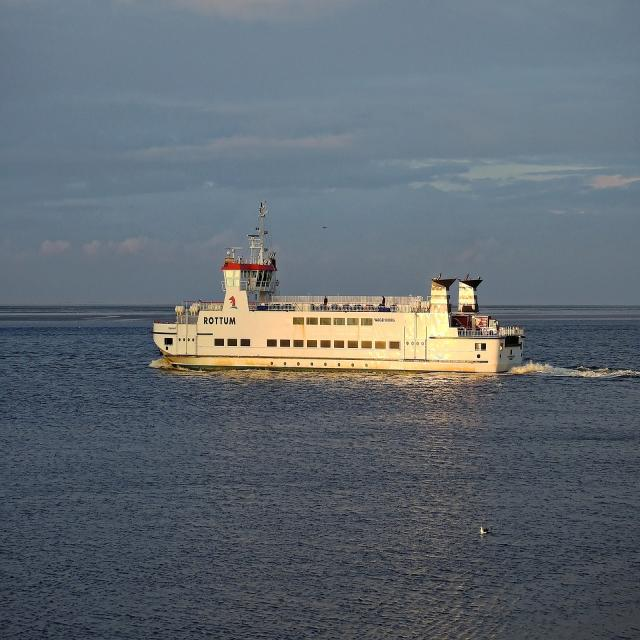ship: (145, 204, 527, 376)
